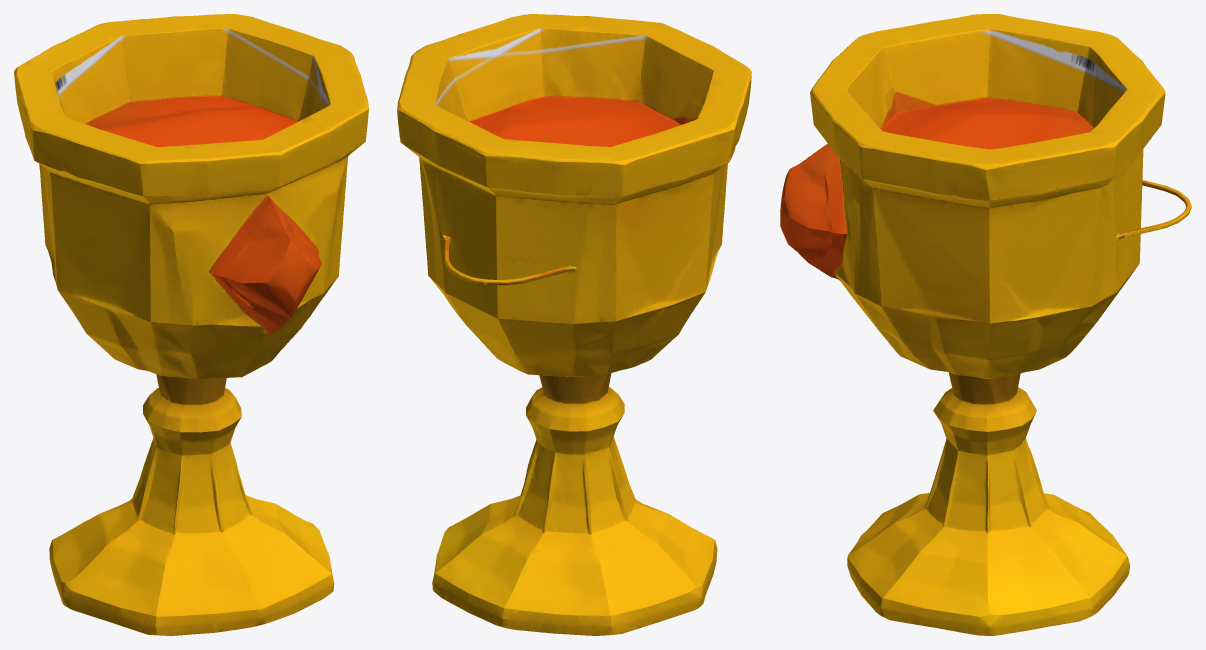
Rendered from base_basic_pbr.fbx.
The picture shows the model from 3 angles, left to right: view 1: azimuth 30°, elevation 25°; view 2: azimuth 150°, elevation 25°; view 3: azimuth 270°, elevation 25°; orthographic projection.
Parts seen in each view (by area): view 1: model; view 2: model; view 3: model.
Boxes of the visible parts, <box> form: model: <box>14,14,368,635</box>; model: <box>397,14,751,635</box>; model: <box>780,14,1191,635</box>.
Size of the model in its own units: 129 by 190 by 145.
Materials: 1 (1 with a texture image).
